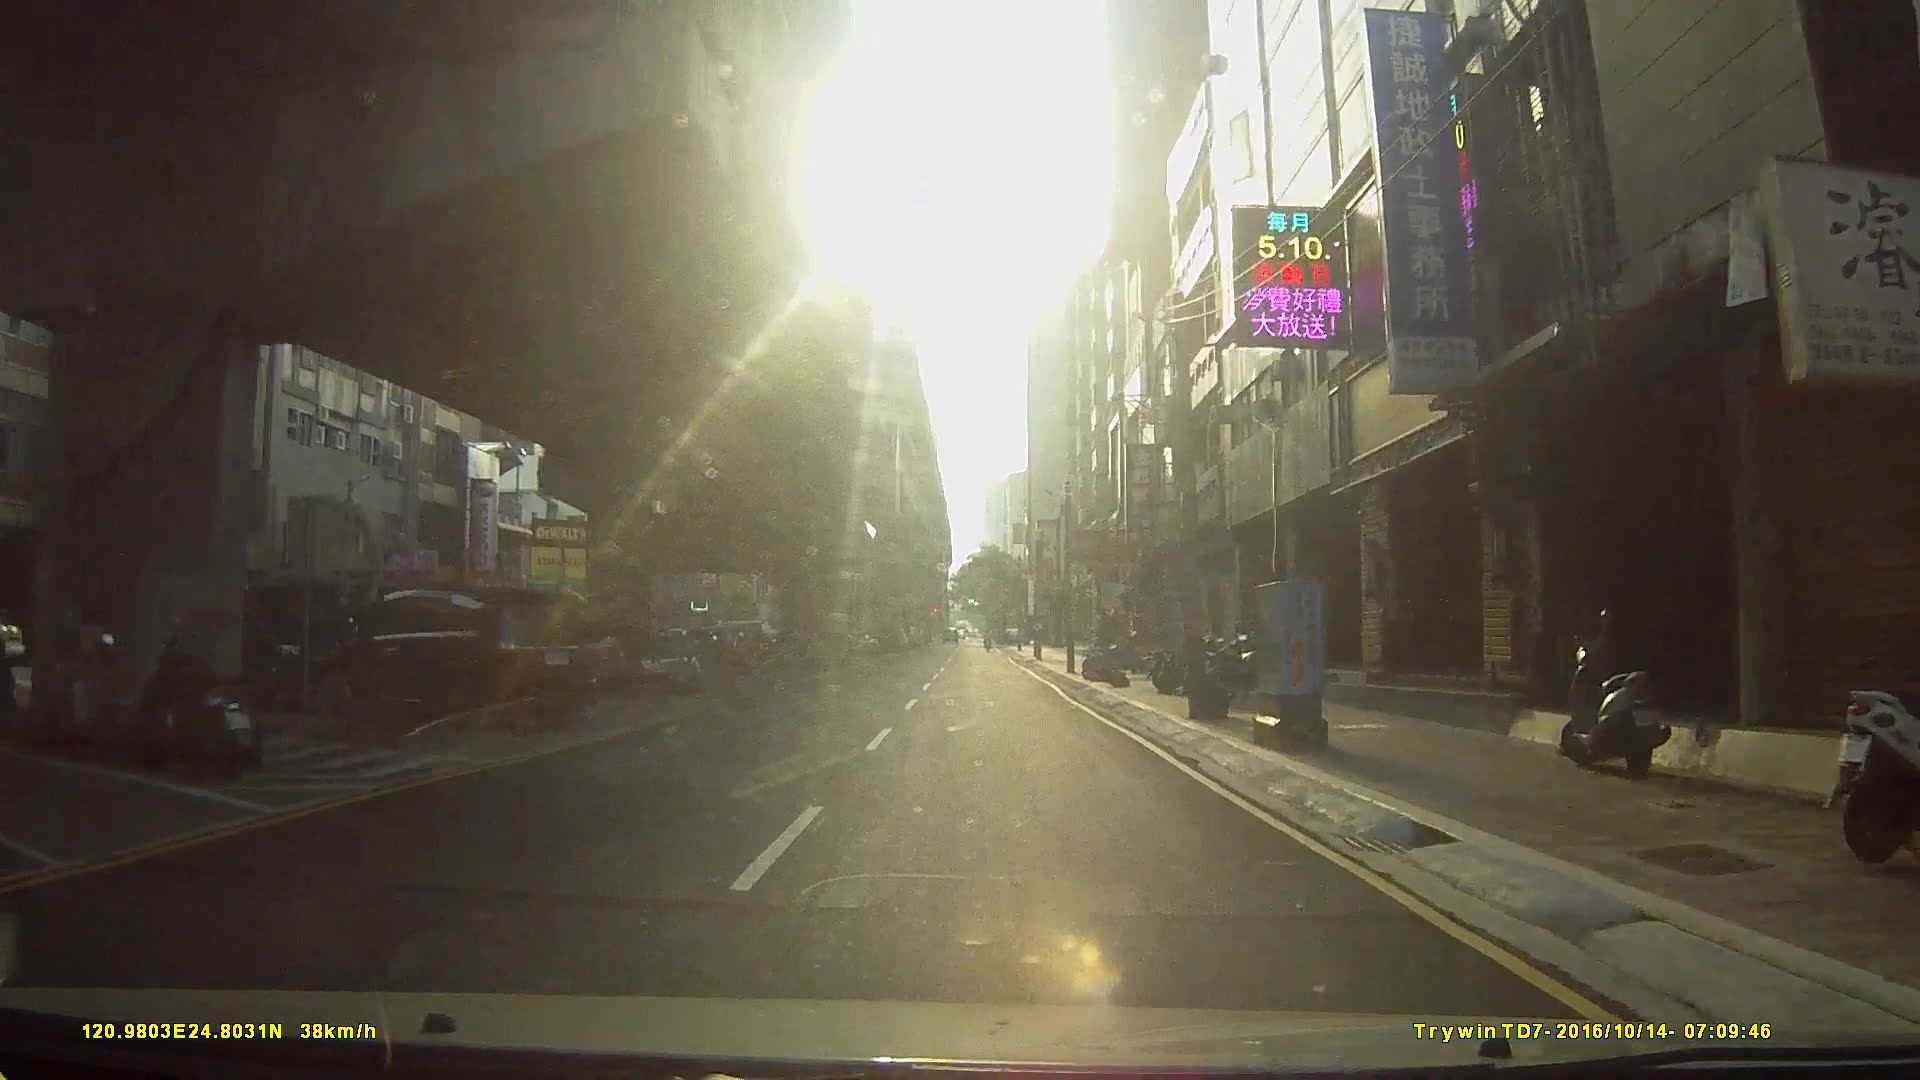vehicle: (302, 582, 596, 727), (165, 576, 348, 702), (571, 620, 698, 692)
